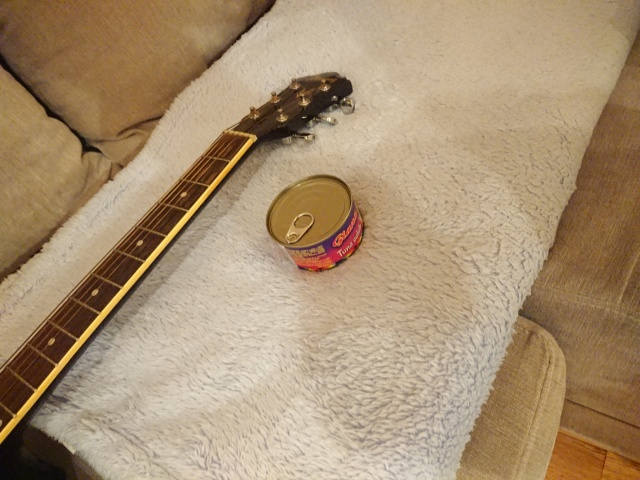Giana Tuna Salad Mexico 185g: (262, 171, 367, 275)
